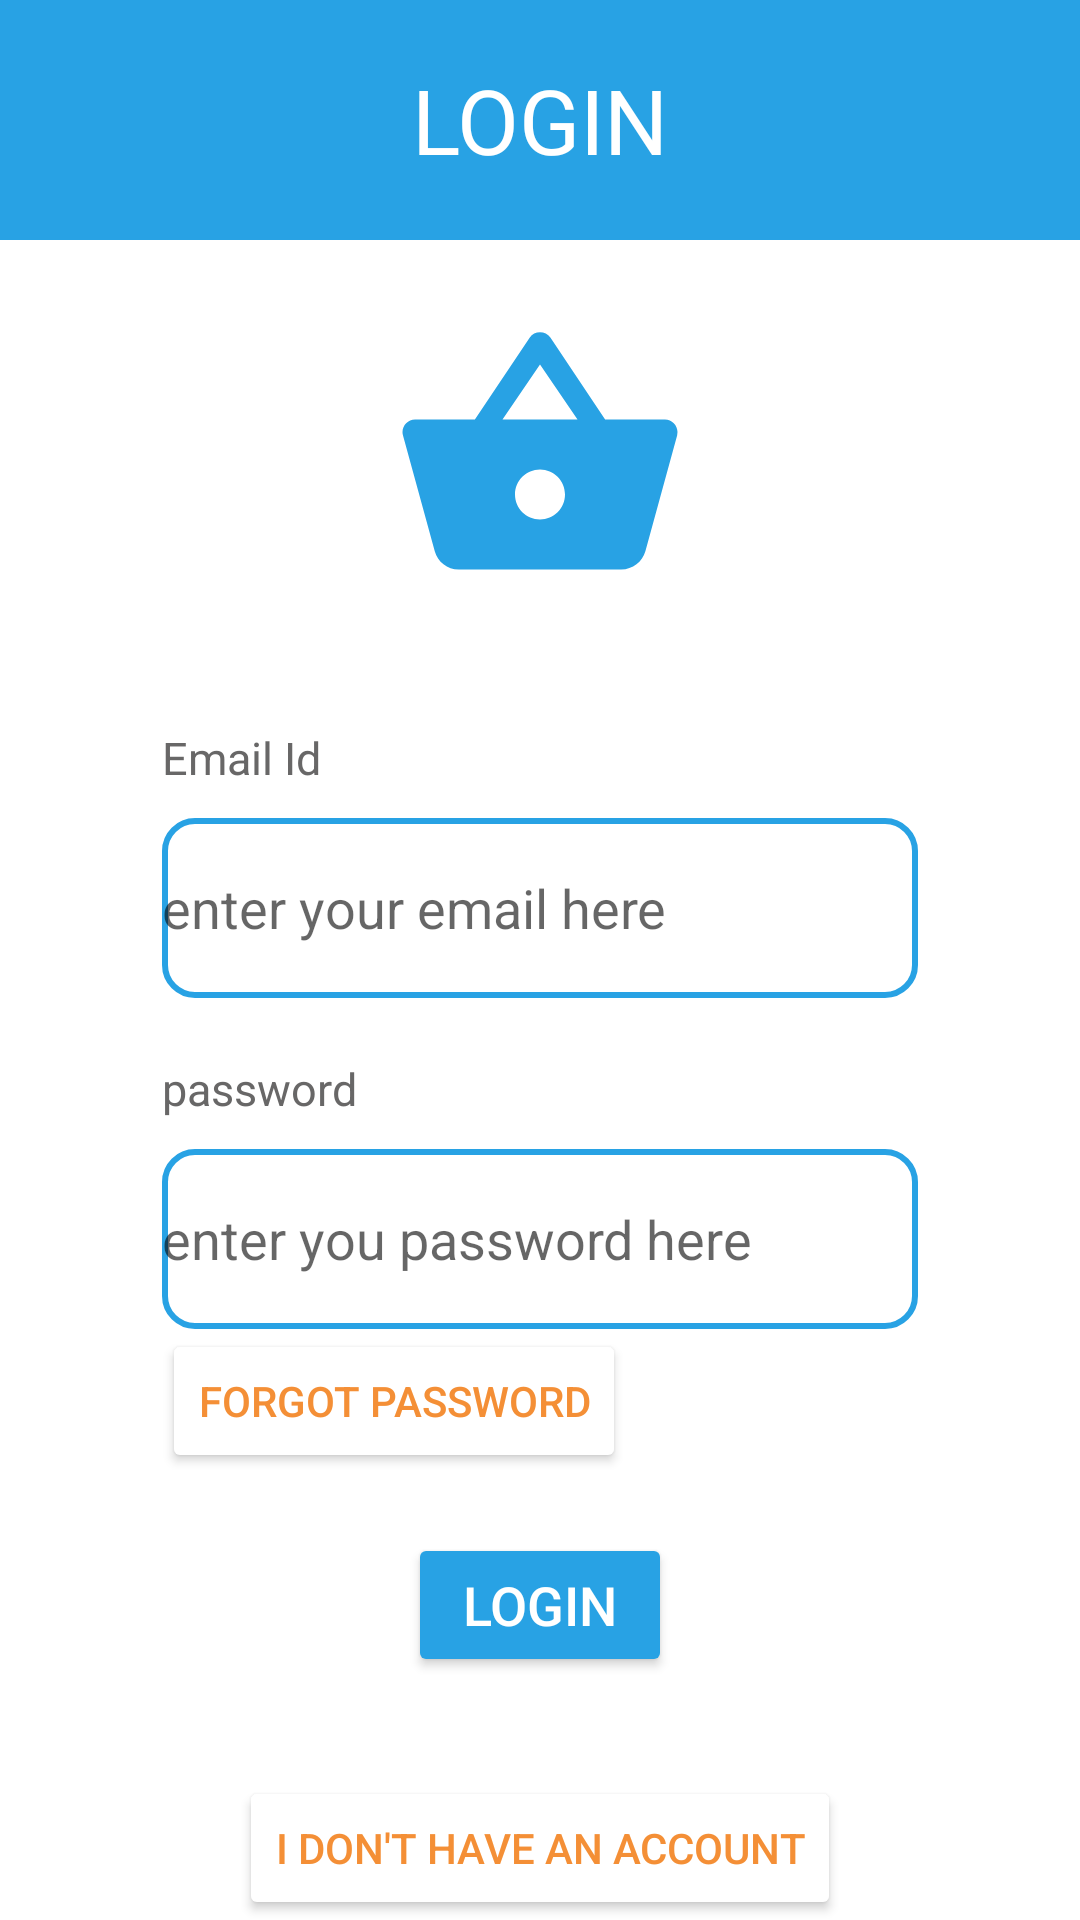

Named icons in this screenshot (1080x1920) and their bounding boxes, (x1, y1, x2, y2):
shopping basket: (402, 332, 678, 570)
